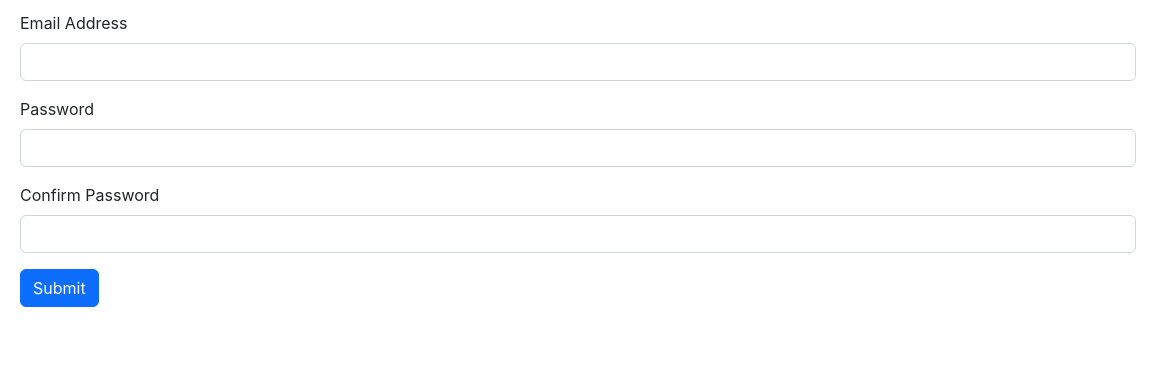
it: Test App Component › Error Handling › Should Show Password Error if Password is less than 5 Characters
Type "eltana@eltana.dev" into the field labelled "Email Address" at (578, 62), box [20,43,1136,81]
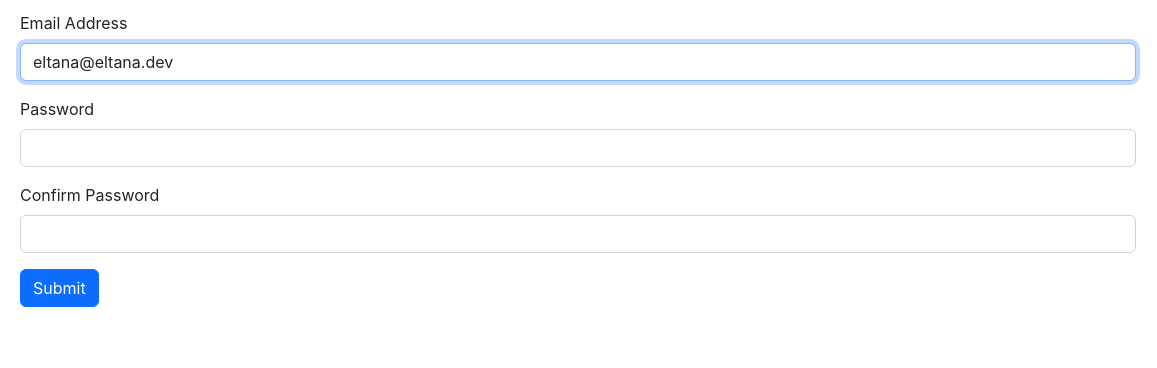
Type "123" into the password field labelled "Password" at (578, 148), box [20,129,1136,167]
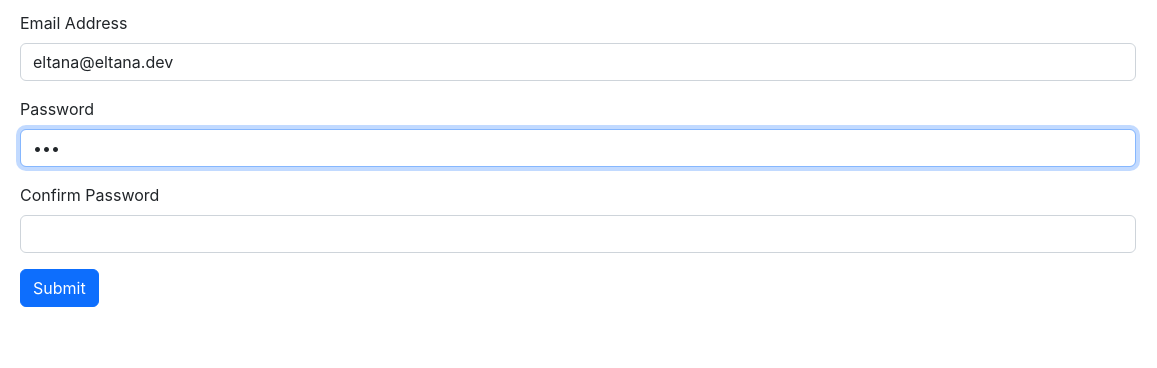
Check: the text "The Password should contain at least 5 Characters!" is not shown
Click the button "Submit" at (59, 288), box [20,269,99,307]
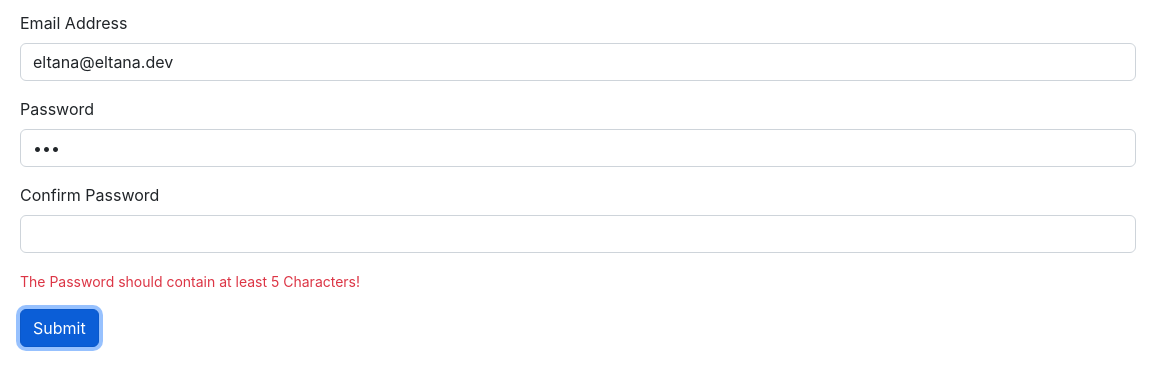
Check: the text "The Password should contain at least 5 Characters!" is shown, box [20,273,360,290]
